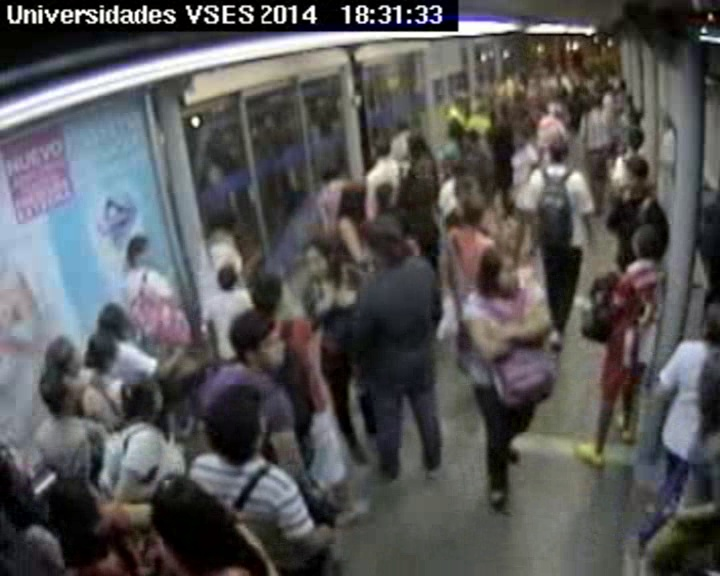person: (152, 474, 242, 561), (206, 384, 277, 462), (48, 476, 107, 542), (229, 314, 283, 371), (357, 214, 406, 264), (479, 247, 523, 297), (305, 238, 344, 281), (116, 381, 157, 419), (44, 338, 81, 374), (39, 373, 74, 410), (252, 274, 287, 309), (336, 182, 369, 215), (86, 337, 118, 371), (629, 225, 660, 260), (95, 303, 127, 336), (621, 157, 650, 189), (457, 179, 487, 209), (124, 240, 152, 269), (209, 214, 236, 243), (213, 266, 235, 291), (406, 135, 428, 156), (627, 127, 647, 149), (372, 138, 392, 160), (512, 121, 532, 142), (375, 183, 395, 204), (549, 141, 568, 161), (446, 120, 463, 139), (494, 105, 510, 123), (464, 131, 482, 147), (321, 166, 337, 182), (452, 164, 466, 179), (556, 88, 570, 101), (511, 91, 524, 104), (627, 110, 640, 123), (473, 100, 485, 113), (395, 124, 407, 137), (455, 97, 467, 109), (534, 103, 546, 115), (624, 97, 634, 109), (540, 64, 550, 75), (590, 99, 600, 110), (605, 69, 615, 79), (553, 63, 563, 73), (514, 72, 524, 82), (530, 84, 540, 94), (614, 81, 623, 91), (604, 85, 613, 95), (590, 72, 599, 81), (565, 62, 574, 71), (527, 65, 536, 74), (578, 87, 586, 96), (504, 75, 513, 83)
